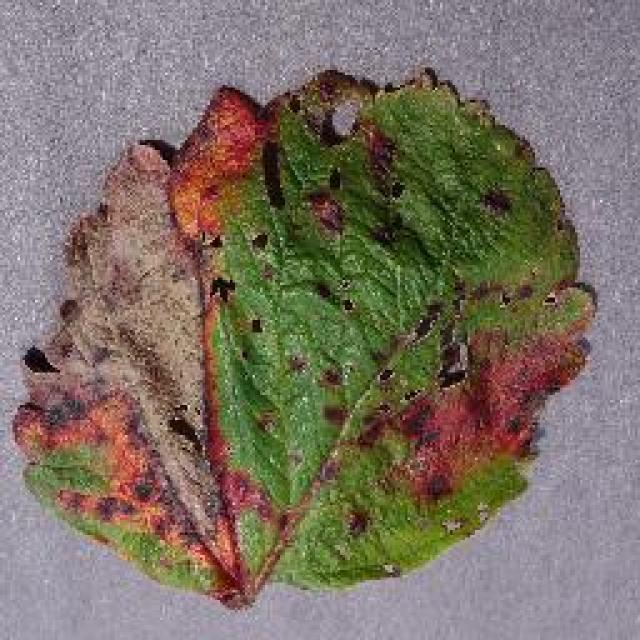Strawberry leaf scorch: (102, 156, 523, 482)
